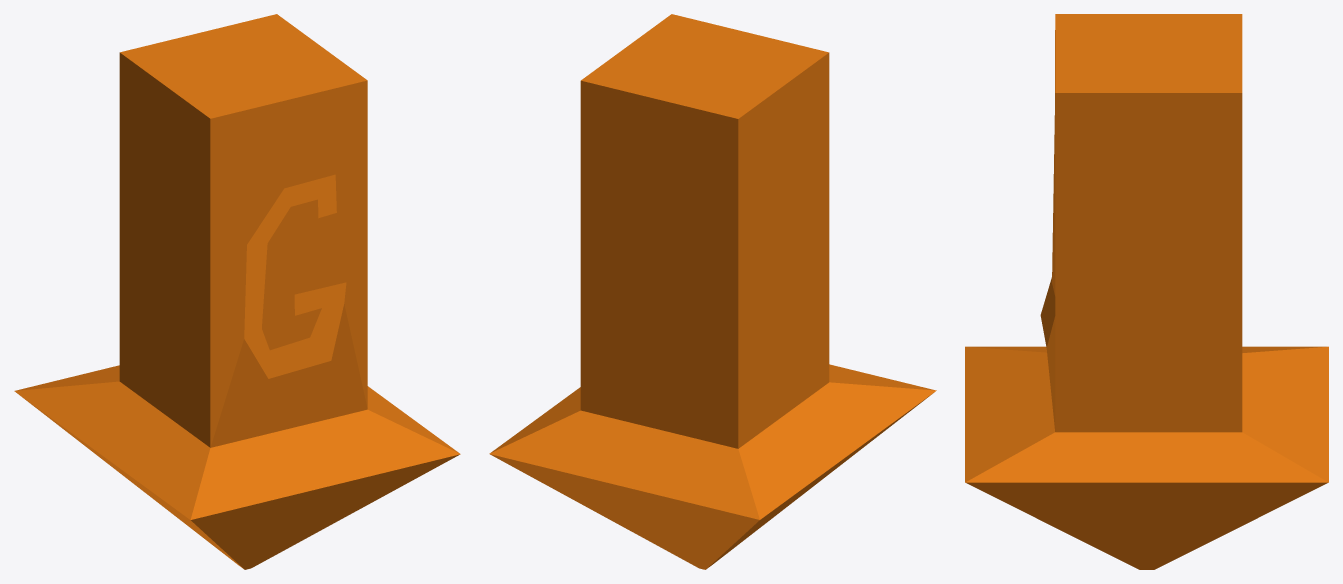
The model's file is goal.fbx.
The picture shows the model from 3 angles, left to right: view 1: azimuth 30°, elevation 25°; view 2: azimuth 150°, elevation 25°; view 3: azimuth 270°, elevation 25°; orthographic projection. The views are drawn at different scales.
Parts seen in each view (by area): view 1: Cube; view 2: Cube; view 3: Cube.
Part boxes in pixels (x1=…): Cube: x1=14, y1=14, x2=460, y2=569; Cube: x1=489, y1=14, x2=936, y2=569; Cube: x1=965, y1=14, x2=1328, y2=569.
Size of the model in its own units: 85.95 by 152 by 97.17.
